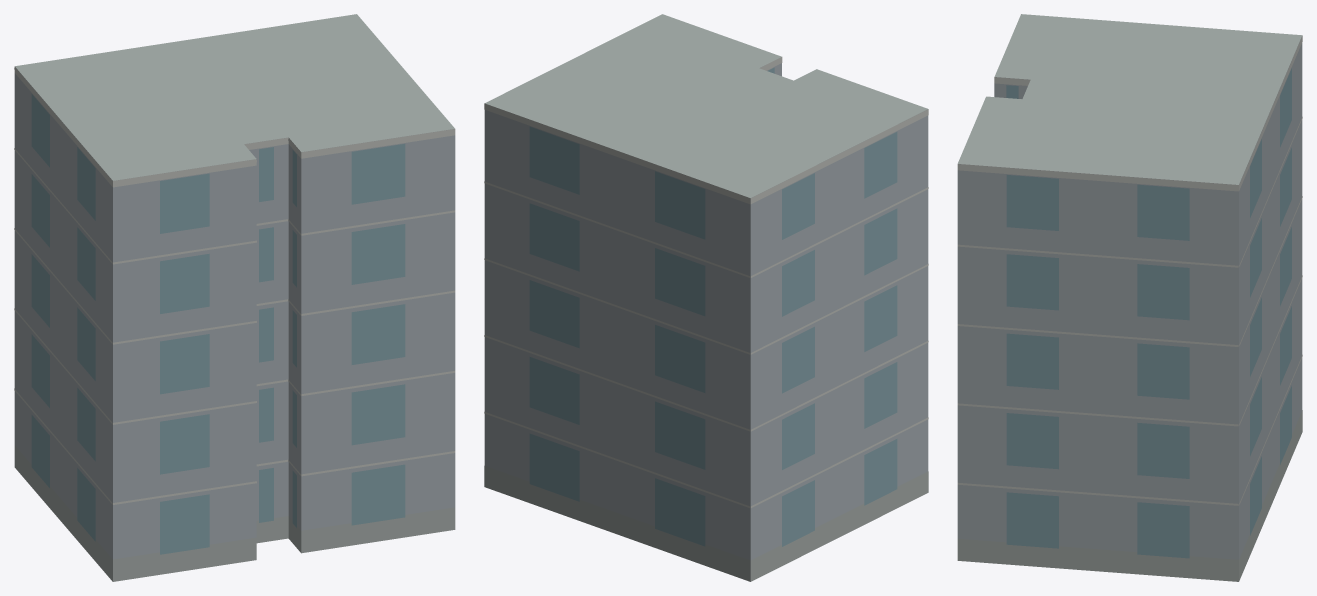
Rendered from survey-upis-32906222.glb.
3 renders of one model, left to right at view 1: azimuth 30°, elevation 25°; view 2: azimuth 150°, elevation 25°; view 3: azimuth 270°, elevation 25°, orthographic. The views are drawn at different scales.
Visible parts, largest first — view 1: survey-upis-32906222.tmp; view 2: survey-upis-32906222.tmp; view 3: survey-upis-32906222.tmp.
Boxes of the visible parts, x1,y1,x2,y2 form: survey-upis-32906222.tmp: (14,14,455,581); survey-upis-32906222.tmp: (484,14,928,581); survey-upis-32906222.tmp: (957,14,1302,581).
Size of the model in its own units: 13.79 by 14.9 by 11.76.
